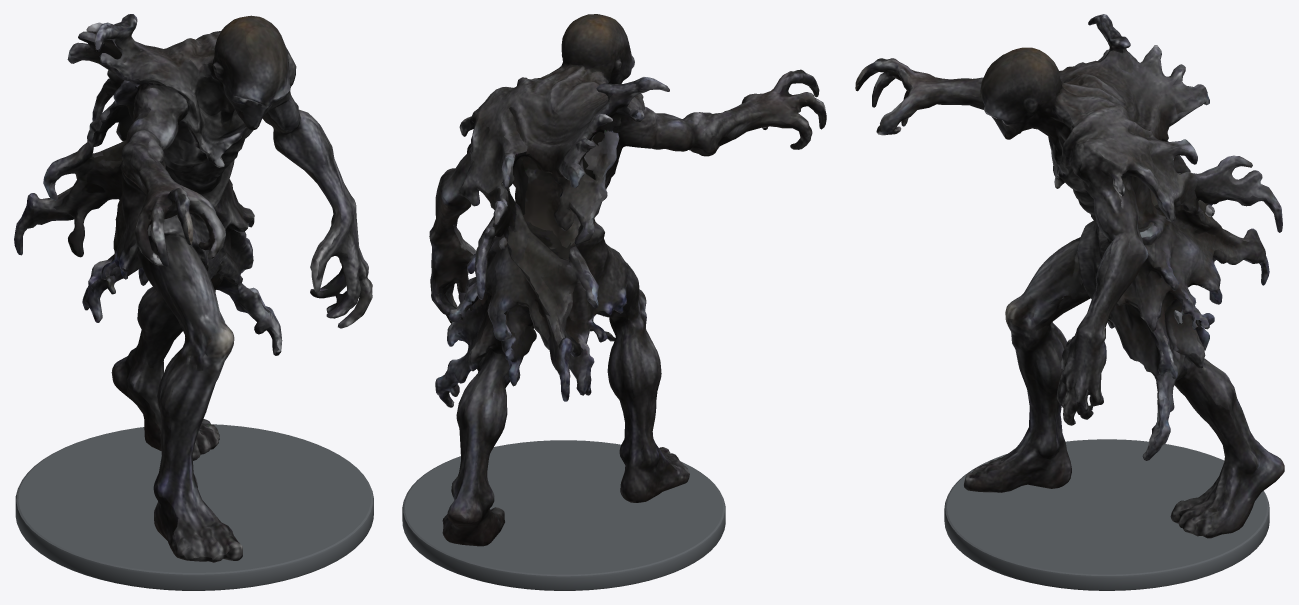
Rendered from shadow.glb.
3 renders of one model, left to right at view 1: azimuth 30°, elevation 25°; view 2: azimuth 150°, elevation 25°; view 3: azimuth 270°, elevation 25°, orthographic. The views are drawn at different scales.
Parts seen in each view (by area): view 1: shadow_body, shadow_round_base; view 2: shadow_body, shadow_round_base; view 3: shadow_body, shadow_round_base.
Boxes of the visible parts, bbox=[...] form: shadow_body: bbox=[14, 14, 372, 562]; shadow_round_base: bbox=[15, 424, 373, 590]; shadow_body: bbox=[429, 14, 826, 546]; shadow_round_base: bbox=[402, 440, 725, 590]; shadow_body: bbox=[855, 14, 1284, 538]; shadow_round_base: bbox=[944, 439, 1269, 590].
Bounding box in the file's own units: 1.05 × 1.62 × 1.32.
2 materials, 1 textured.
